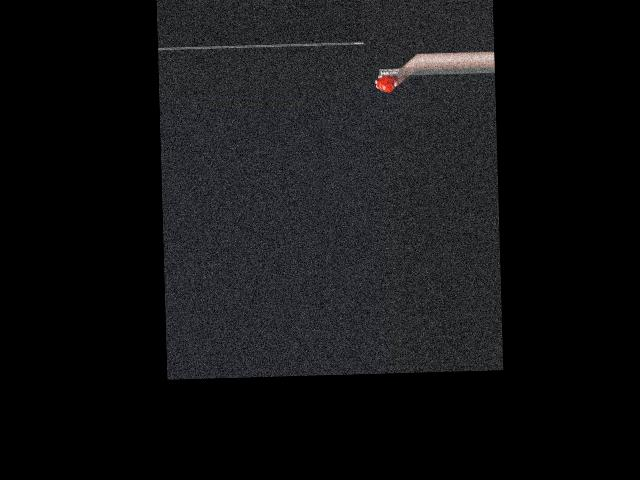tomato: (376, 75, 395, 93)
